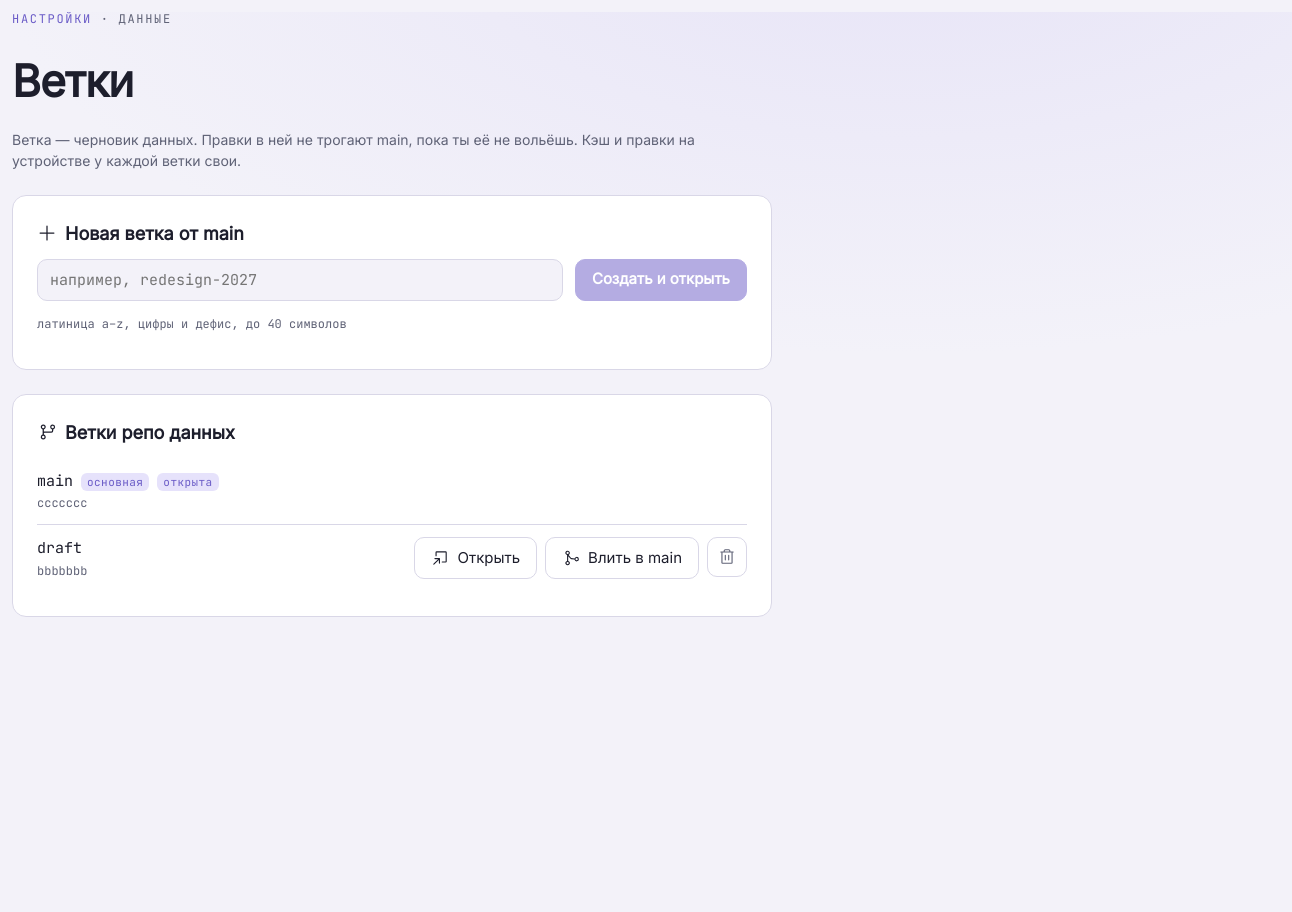
Scenario: экран «Ветки»: «Влить в main» › влито, но проверить итог не удалось — своя фраза про GitHub
The image size is (1292, 912).
Click the button "Влить в main" at (622, 558), box x1=545 y1=537 x2=699 y2=579
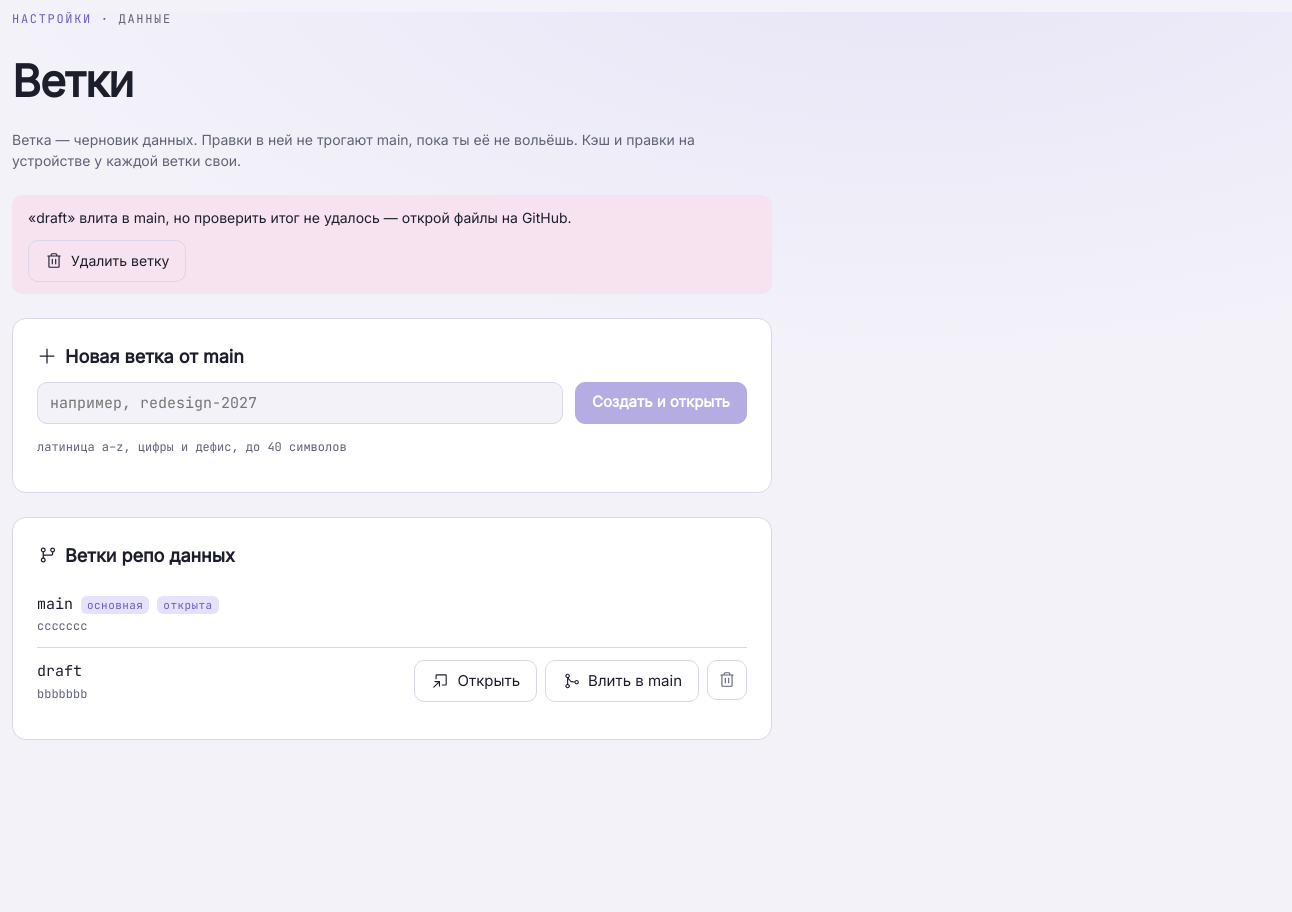
Now the message shows "влита в main, но проверить итог не удалось — открой файлы на GitHub", box x1=75 y1=209 x2=572 y2=226
